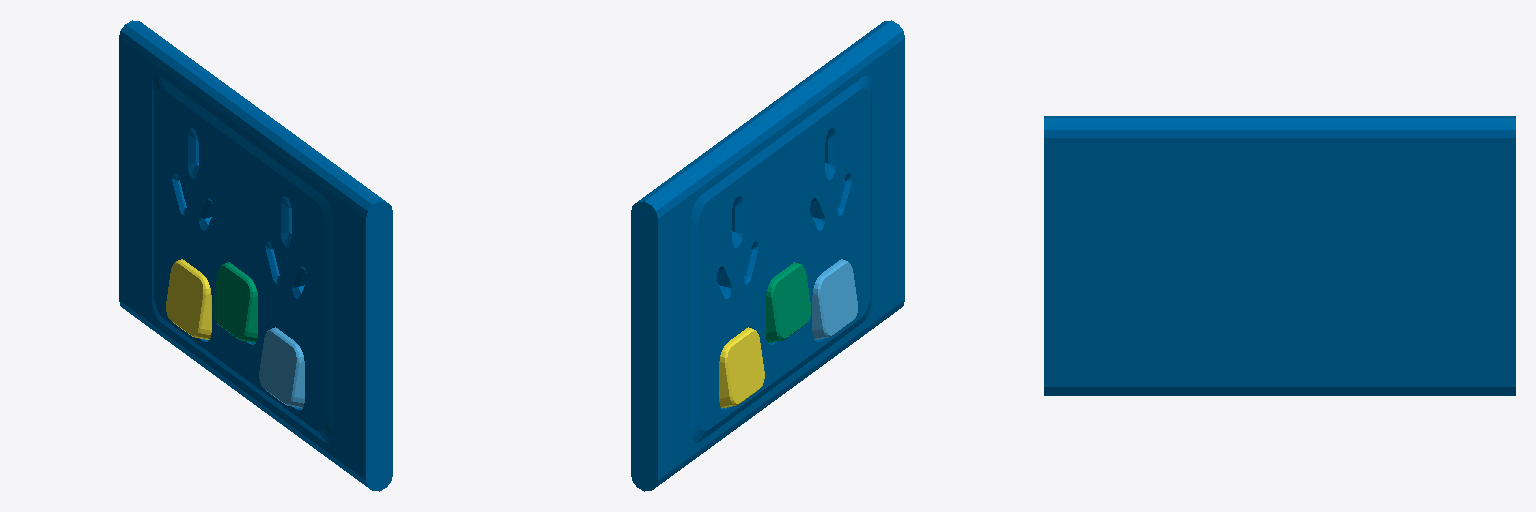
URDF robot description (partnet_390fbd96-e7e2-45db-a02f-cd08aa60821a):
<?xml version="1.0" ?>
<robot name="partnet_390fbd96-e7e2-45db-a02f-cd08aa60821a">
	<link name="base"/>
	<link name="link_0">
		<visual name="switch-1">
			<origin xyz="0 0.2560395133358261 -0.02852507842140862"/>
			<geometry>
				<mesh filename="textured_objs/original-15.obj"/>
			</geometry>
		</visual>
		<collision>
			<origin xyz="0 0.2560395133358261 -0.02852507842140862"/>
			<geometry>
				<mesh filename="textured_objs/original-15.obj"/>
			</geometry>
		</collision>
	</link>
	<joint name="joint_0" type="revolute">
		<origin xyz="0 -0.2560395133358261 0.02852507842140862"/>
		<axis xyz="1 0 0"/>
		<child link="link_0"/>
		<parent link="link_3"/>
		<limit lower="0.0" upper="0.3392920065876977"/>
	</joint>
	<link name="link_1">
		<visual name="switch-2">
			<origin xyz="0 0.1384525016222508 -0.0285251540865028"/>
			<geometry>
				<mesh filename="textured_objs/original-18.obj"/>
			</geometry>
		</visual>
		<collision>
			<origin xyz="0 0.1384525016222508 -0.0285251540865028"/>
			<geometry>
				<mesh filename="textured_objs/original-18.obj"/>
			</geometry>
		</collision>
	</link>
	<joint name="joint_1" type="revolute">
		<origin xyz="0 -0.1384525016222508 0.0285251540865028"/>
		<axis xyz="1 0 0"/>
		<child link="link_1"/>
		<parent link="link_3"/>
		<limit lower="0.0" upper="0.3392920065876977"/>
	</joint>
	<link name="link_2">
		<visual name="switch-3">
			<origin xyz="0 0.2560395133358261 -0.02852507842140862"/>
			<geometry>
				<mesh filename="textured_objs/original-21.obj"/>
			</geometry>
		</visual>
		<collision>
			<origin xyz="0 0.2560395133358261 -0.02852507842140862"/>
			<geometry>
				<mesh filename="textured_objs/original-21.obj"/>
			</geometry>
		</collision>
	</link>
	<joint name="joint_2" type="revolute">
		<origin xyz="0 -0.2560395133358261 0.02852507842140862"/>
		<axis xyz="1 0 0"/>
		<child link="link_2"/>
		<parent link="link_3"/>
		<limit lower="0.0" upper="0.3392920065876977"/>
	</joint>
	<link name="link_3">
		<visual name="base_body-4">
			<origin xyz="0 0 0"/>
			<geometry>
				<mesh filename="textured_objs/original-22.obj"/>
			</geometry>
		</visual>
		<visual name="base_body-4">
			<origin xyz="0 0 0"/>
			<geometry>
				<mesh filename="textured_objs/original-4.obj"/>
			</geometry>
		</visual>
		<visual name="base_body-4">
			<origin xyz="0 0 0"/>
			<geometry>
				<mesh filename="textured_objs/original-3.obj"/>
			</geometry>
		</visual>
		<visual name="base_body-4">
			<origin xyz="0 0 0"/>
			<geometry>
				<mesh filename="textured_objs/original-2.obj"/>
			</geometry>
		</visual>
		<visual name="base_body-4">
			<origin xyz="0 0 0"/>
			<geometry>
				<mesh filename="textured_objs/original-16.obj"/>
			</geometry>
		</visual>
		<visual name="base_body-4">
			<origin xyz="0 0 0"/>
			<geometry>
				<mesh filename="textured_objs/original-8.obj"/>
			</geometry>
		</visual>
		<visual name="base_body-4">
			<origin xyz="0 0 0"/>
			<geometry>
				<mesh filename="textured_objs/original-13.obj"/>
			</geometry>
		</visual>
		<visual name="base_body-4">
			<origin xyz="0 0 0"/>
			<geometry>
				<mesh filename="textured_objs/original-9.obj"/>
			</geometry>
		</visual>
		<visual name="base_body-4">
			<origin xyz="0 0 0"/>
			<geometry>
				<mesh filename="textured_objs/original-5.obj"/>
			</geometry>
		</visual>
		<visual name="base_body-4">
			<origin xyz="0 0 0"/>
			<geometry>
				<mesh filename="textured_objs/original-6.obj"/>
			</geometry>
		</visual>
		<visual name="base_body-4">
			<origin xyz="0 0 0"/>
			<geometry>
				<mesh filename="textured_objs/original-11.obj"/>
			</geometry>
		</visual>
		<visual name="base_body-4">
			<origin xyz="0 0 0"/>
			<geometry>
				<mesh filename="textured_objs/original-12.obj"/>
			</geometry>
		</visual>
		<visual name="base_body-4">
			<origin xyz="0 0 0"/>
			<geometry>
				<mesh filename="textured_objs/original-7.obj"/>
			</geometry>
		</visual>
		<visual name="base_body-4">
			<origin xyz="0 0 0"/>
			<geometry>
				<mesh filename="textured_objs/original-1.obj"/>
			</geometry>
		</visual>
		<visual name="base_body-4">
			<origin xyz="0 0 0"/>
			<geometry>
				<mesh filename="textured_objs/original-10.obj"/>
			</geometry>
		</visual>
		<visual name="base_body-4">
			<origin xyz="0 0 0"/>
			<geometry>
				<mesh filename="textured_objs/original-19.obj"/>
			</geometry>
		</visual>
		<collision>
			<origin xyz="0 0 0"/>
			<geometry>
				<mesh filename="textured_objs/original-22.obj"/>
			</geometry>
		</collision>
		<collision>
			<origin xyz="0 0 0"/>
			<geometry>
				<mesh filename="textured_objs/original-4.obj"/>
			</geometry>
		</collision>
		<collision>
			<origin xyz="0 0 0"/>
			<geometry>
				<mesh filename="textured_objs/original-3.obj"/>
			</geometry>
		</collision>
		<collision>
			<origin xyz="0 0 0"/>
			<geometry>
				<mesh filename="textured_objs/original-2.obj"/>
			</geometry>
		</collision>
		<collision>
			<origin xyz="0 0 0"/>
			<geometry>
				<mesh filename="textured_objs/original-16.obj"/>
			</geometry>
		</collision>
		<collision>
			<origin xyz="0 0 0"/>
			<geometry>
				<mesh filename="textured_objs/original-8.obj"/>
			</geometry>
		</collision>
		<collision>
			<origin xyz="0 0 0"/>
			<geometry>
				<mesh filename="textured_objs/original-13.obj"/>
			</geometry>
		</collision>
		<collision>
			<origin xyz="0 0 0"/>
			<geometry>
				<mesh filename="textured_objs/original-9.obj"/>
			</geometry>
		</collision>
		<collision>
			<origin xyz="0 0 0"/>
			<geometry>
				<mesh filename="textured_objs/original-5.obj"/>
			</geometry>
		</collision>
		<collision>
			<origin xyz="0 0 0"/>
			<geometry>
				<mesh filename="textured_objs/original-6.obj"/>
			</geometry>
		</collision>
		<collision>
			<origin xyz="0 0 0"/>
			<geometry>
				<mesh filename="textured_objs/original-11.obj"/>
			</geometry>
		</collision>
		<collision>
			<origin xyz="0 0 0"/>
			<geometry>
				<mesh filename="textured_objs/original-12.obj"/>
			</geometry>
		</collision>
		<collision>
			<origin xyz="0 0 0"/>
			<geometry>
				<mesh filename="textured_objs/original-7.obj"/>
			</geometry>
		</collision>
		<collision>
			<origin xyz="0 0 0"/>
			<geometry>
				<mesh filename="textured_objs/original-1.obj"/>
			</geometry>
		</collision>
		<collision>
			<origin xyz="0 0 0"/>
			<geometry>
				<mesh filename="textured_objs/original-10.obj"/>
			</geometry>
		</collision>
		<collision>
			<origin xyz="0 0 0"/>
			<geometry>
				<mesh filename="textured_objs/original-19.obj"/>
			</geometry>
		</collision>
	</link>
	<joint name="joint_3" type="fixed">
		<origin rpy="1.570796326794897 0 -1.570796326794897" xyz="0 0 0"/>
		<child link="link_3"/>
		<parent link="base"/>
	</joint>
</robot>

--- Render facts (derived) ---
3 views of the same robot in one strip: view 1: azimuth 30°, elevation 25°; view 2: azimuth 150°, elevation 25°; view 3: azimuth 270°, elevation 25° (orthographic).
Model partnet_390fbd96-e7e2-45db-a02f-cd08aa60821a with 5 links and 4 joints (3 revolute, 1 fixed), rooted at base, posed all joints at 0.
Visible links, largest first — view 1: link_3, link_2, link_0, link_1; view 2: link_3, link_0, link_2, link_1; view 3: link_3.
Boxes of the visible links, x1,y1,x2,y2 form: link_3: (119, 20, 392, 491); link_2: (166, 259, 211, 339); link_0: (259, 327, 304, 408); link_1: (213, 262, 257, 342); link_3: (631, 20, 904, 491); link_0: (812, 259, 857, 339); link_2: (719, 327, 764, 408); link_1: (766, 262, 810, 342); link_3: (1044, 116, 1515, 395).
Bounding box of the posed robot: 0.1674 × 1.69 × 1.1 m (x, y, z).
19 mesh visuals loaded from 19 distinct referenced files (19 OBJ).